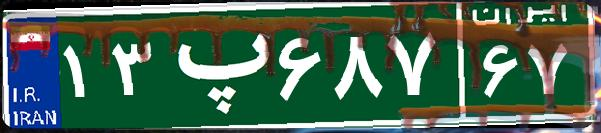1: (57, 26, 110, 107)
3: (110, 28, 158, 105)
6: (273, 28, 330, 110), (475, 38, 525, 113)
7: (385, 28, 445, 110), (525, 38, 570, 115)
8: (330, 28, 385, 110)
پ: (158, 15, 273, 115)
